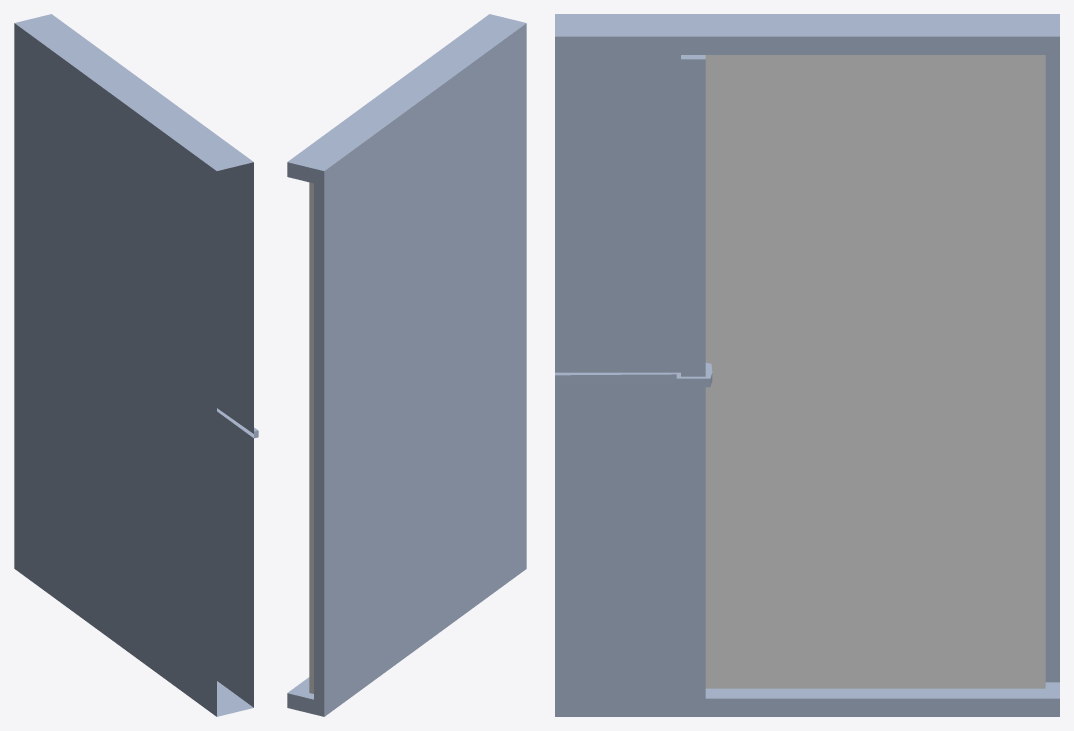
Rendered from m_projectorScreen.fbx.
The picture shows the model from 3 angles, left to right: view 1: azimuth 30°, elevation 25°; view 2: azimuth 150°, elevation 25°; view 3: azimuth 270°, elevation 25°; orthographic projection. The views are drawn at different scales.
Parts seen in each view (by area): view 1: m_projectorScreen; view 2: m_projectorScreen; view 3: m_projectorScreen.
Boxes of the visible parts, left/top/right/bottom form: m_projectorScreen: left=14, top=14, right=258, bottom=716; m_projectorScreen: left=287, top=14, right=526, bottom=716; m_projectorScreen: left=555, top=14, right=1059, bottom=716.
Size of the model in its own units: 41.09 by 453 by 305.
